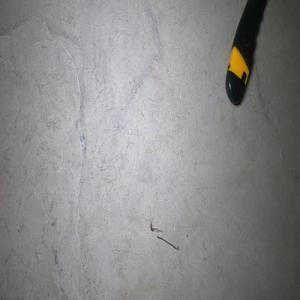Cutter: (224, 0, 268, 106)
